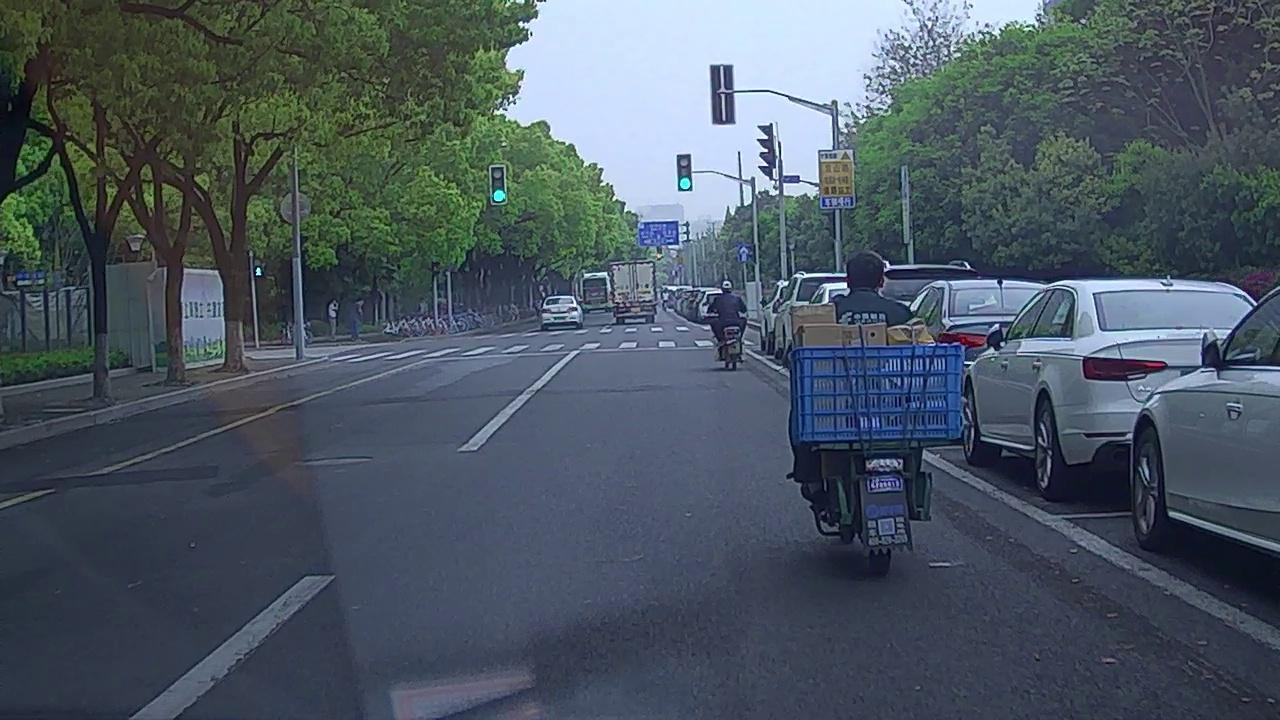traffic_light: (491, 165, 505, 204), (677, 156, 692, 191)
